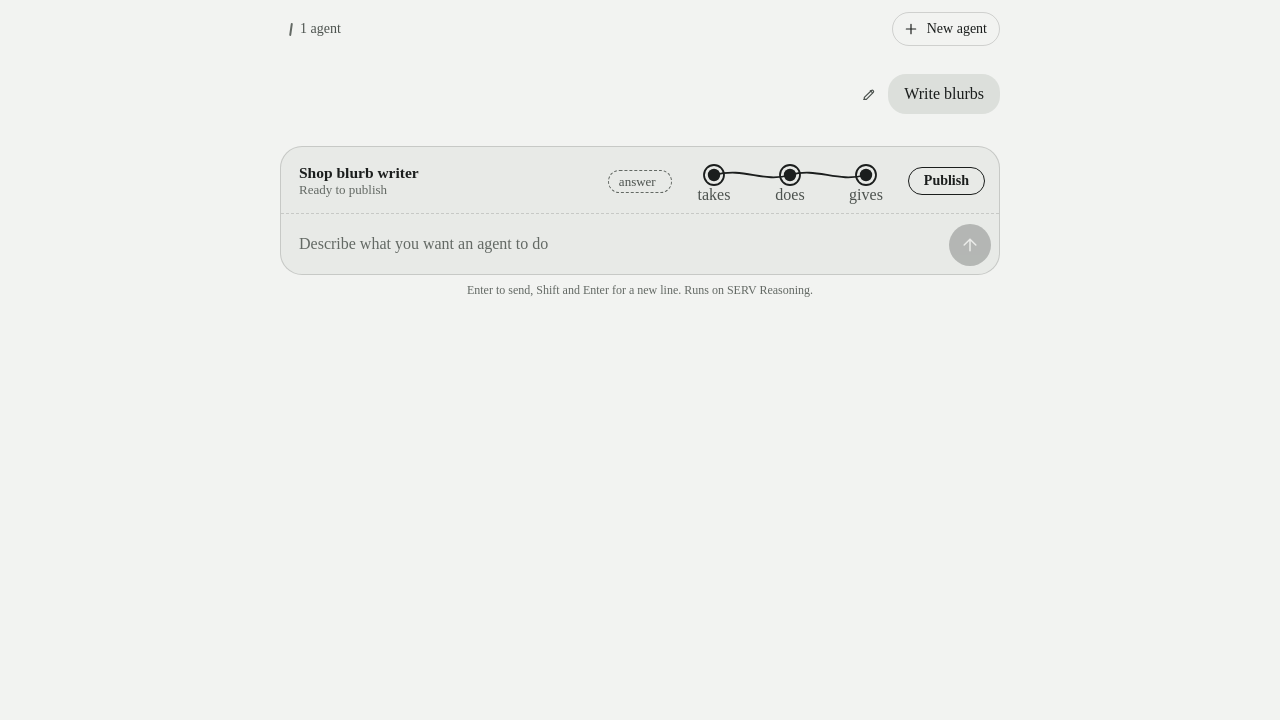
Scenario: publishing from the chat › says the handle was picked at random only while the field still holds it, and takes 160 characters of one line
Step 1. Click the button "1 agent" → {"x": 315, "y": 29}, box [280, 15, 351, 43]
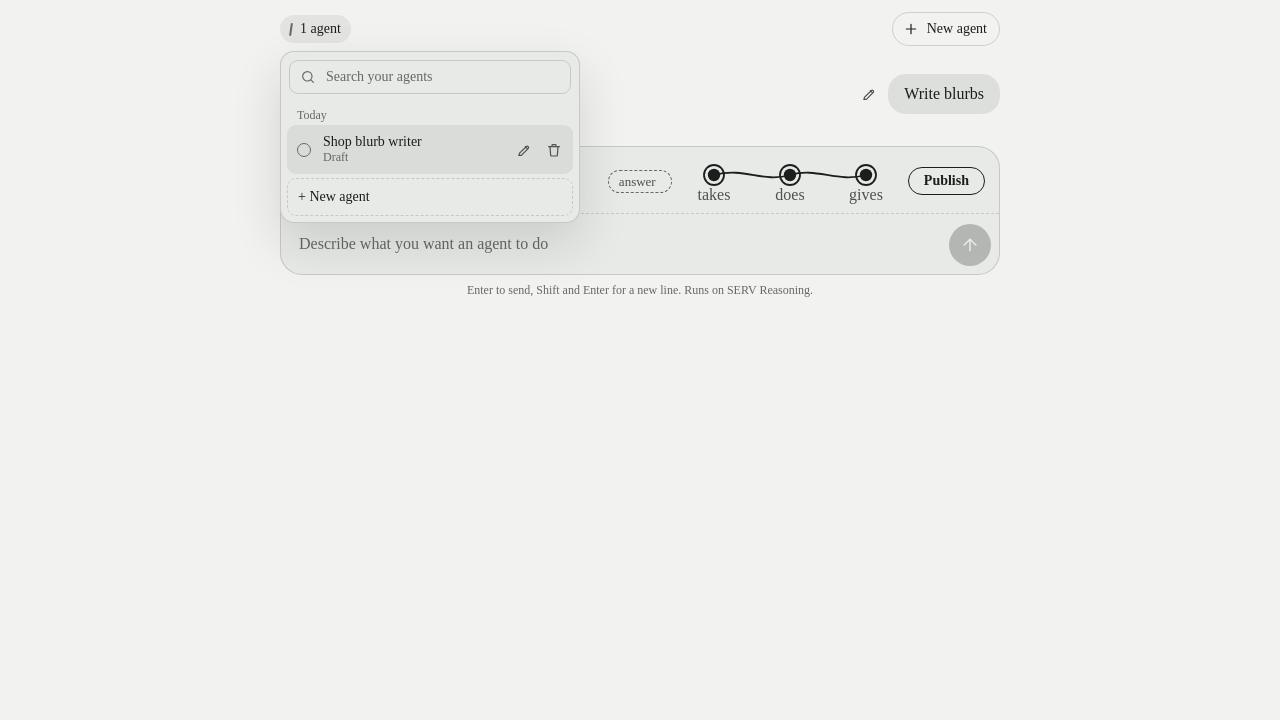
Step 2. Click the button "Shop blurb writer Draft" → {"x": 398, "y": 150}, box [287, 125, 509, 174]
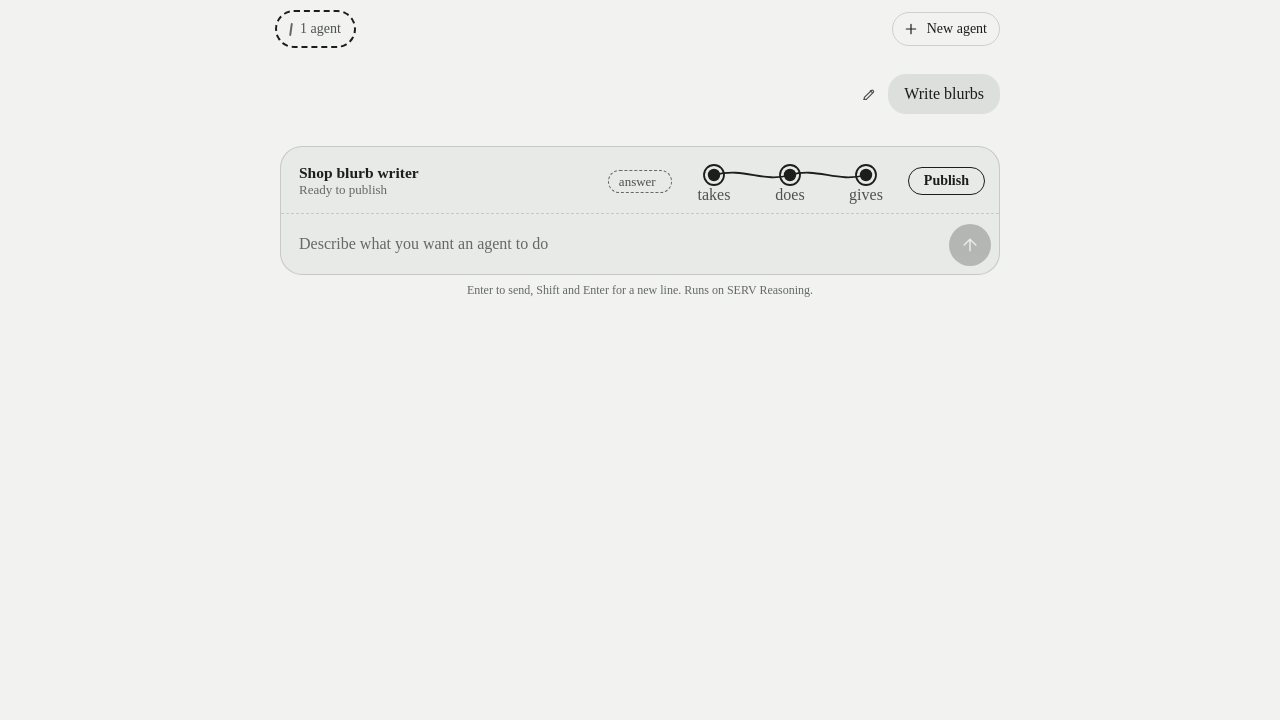
Step 3. Click the button "Publish" → {"x": 946, "y": 181}, box [908, 167, 985, 195]
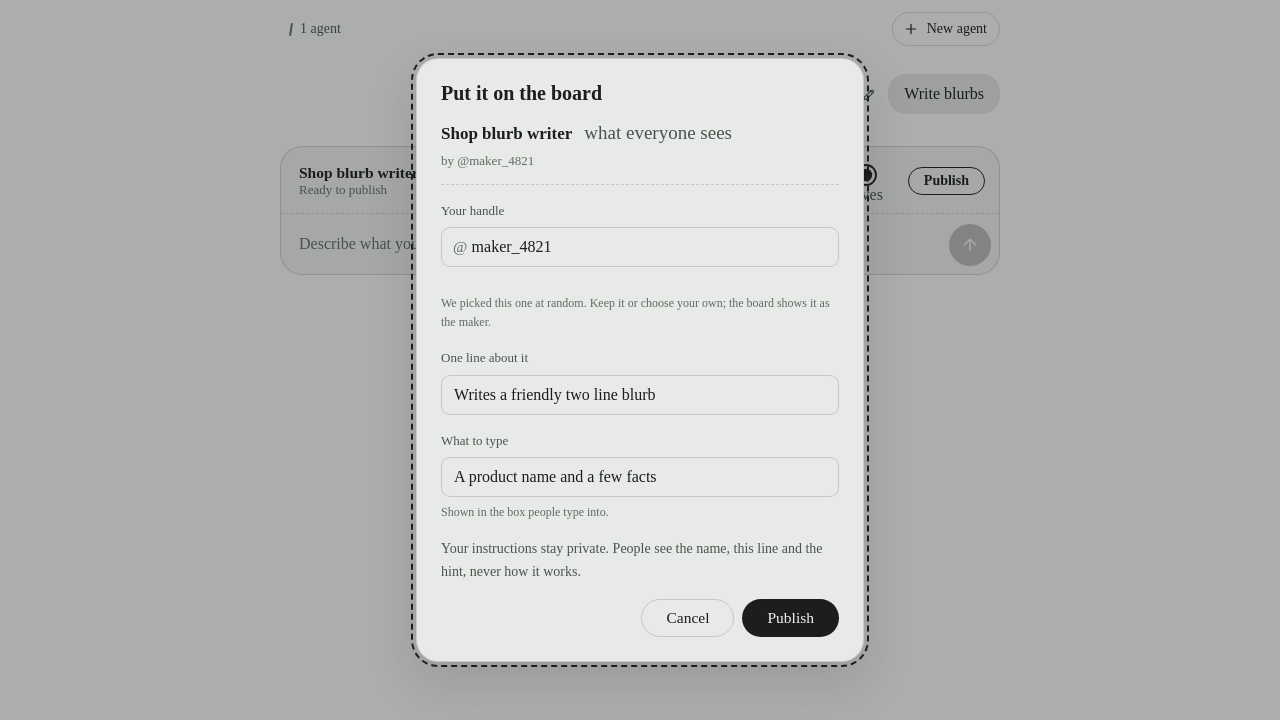
Now the text "We picked this one at random" is shown, box [441, 296, 830, 329]
Step 4. Replace the text in the field labelled "Your handle" with "maya_r" → {"x": 640, "y": 247}, box [441, 228, 839, 267]
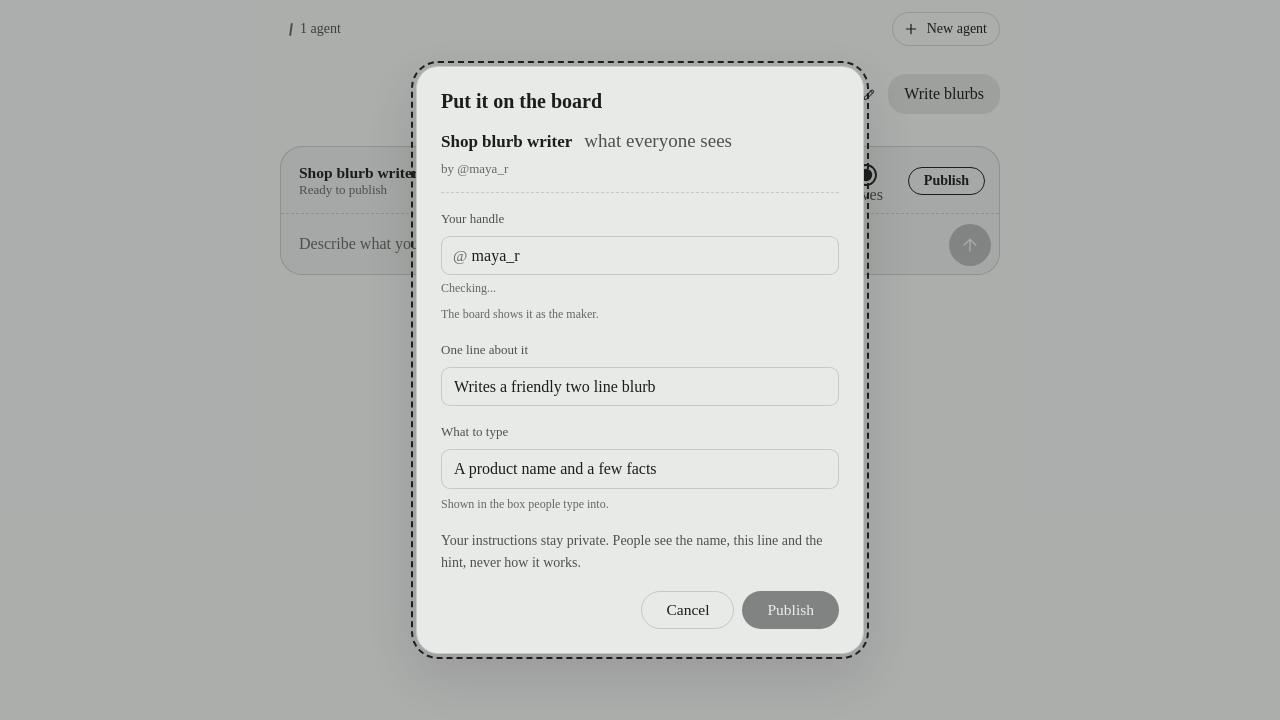
Now the text "The board shows it as the maker." is shown, box [441, 307, 599, 321]
Now the text "We picked this one at random" is gone
Step 5. Replace the text in the field labelled "Your handle" with "Maker_4821" → {"x": 640, "y": 256}, box [441, 236, 839, 276]
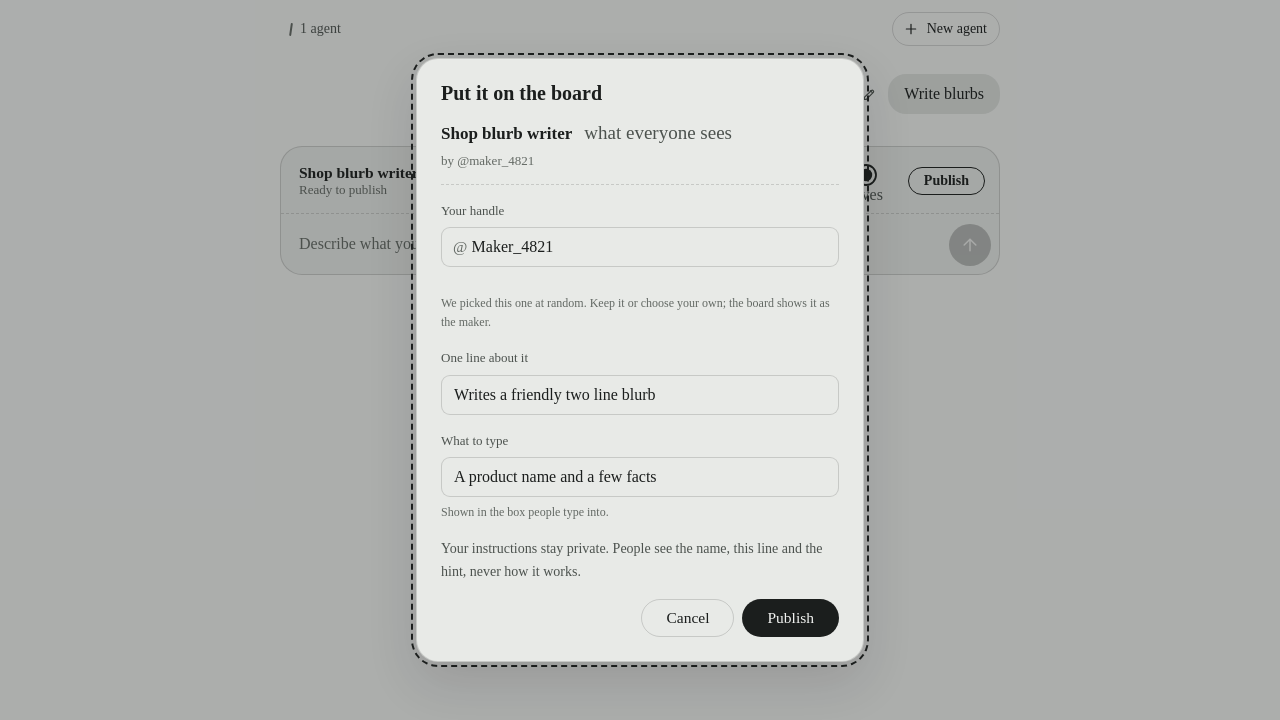
Now the text "We picked this one at random" is shown, box [441, 296, 830, 329]
